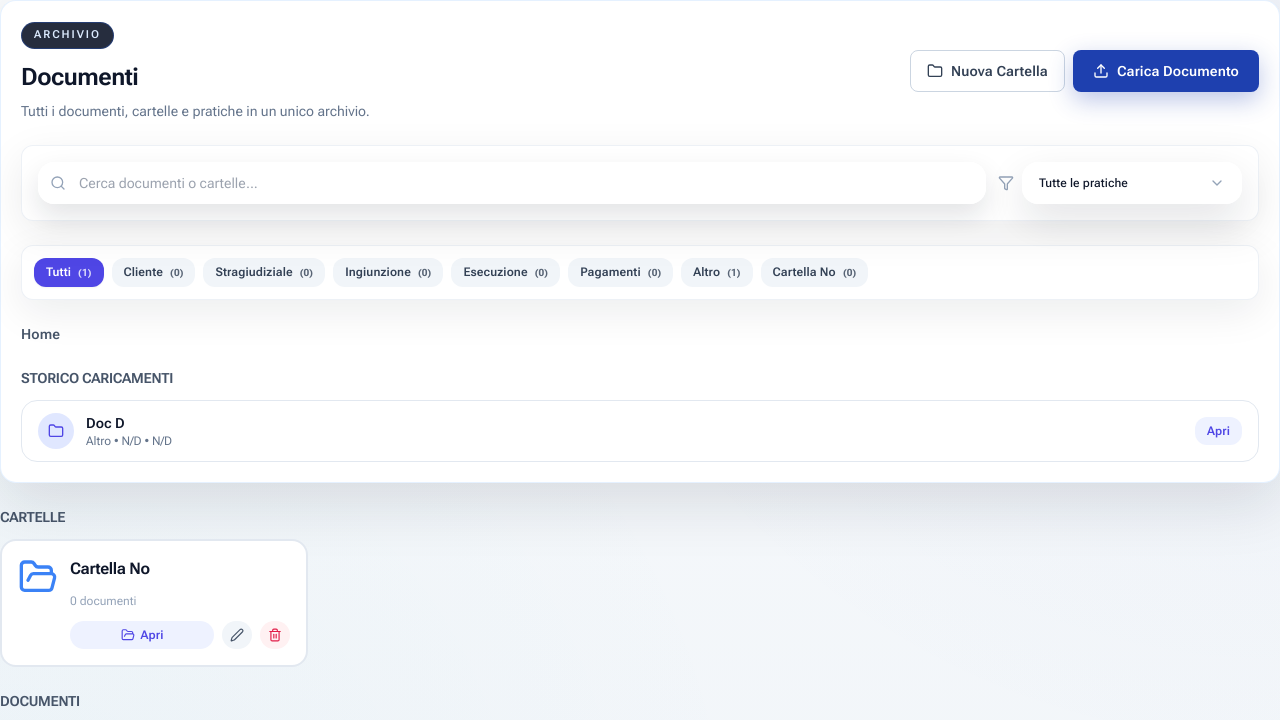
Test: DocumentiPage actions › chiude la modal cartella senza salvare
expect the 1st heading "Documenti" is shown: met, box [21,62,138,90]
Click the button "Nuova Cartella". click: (987, 71)
box: [910,50,1065,92]
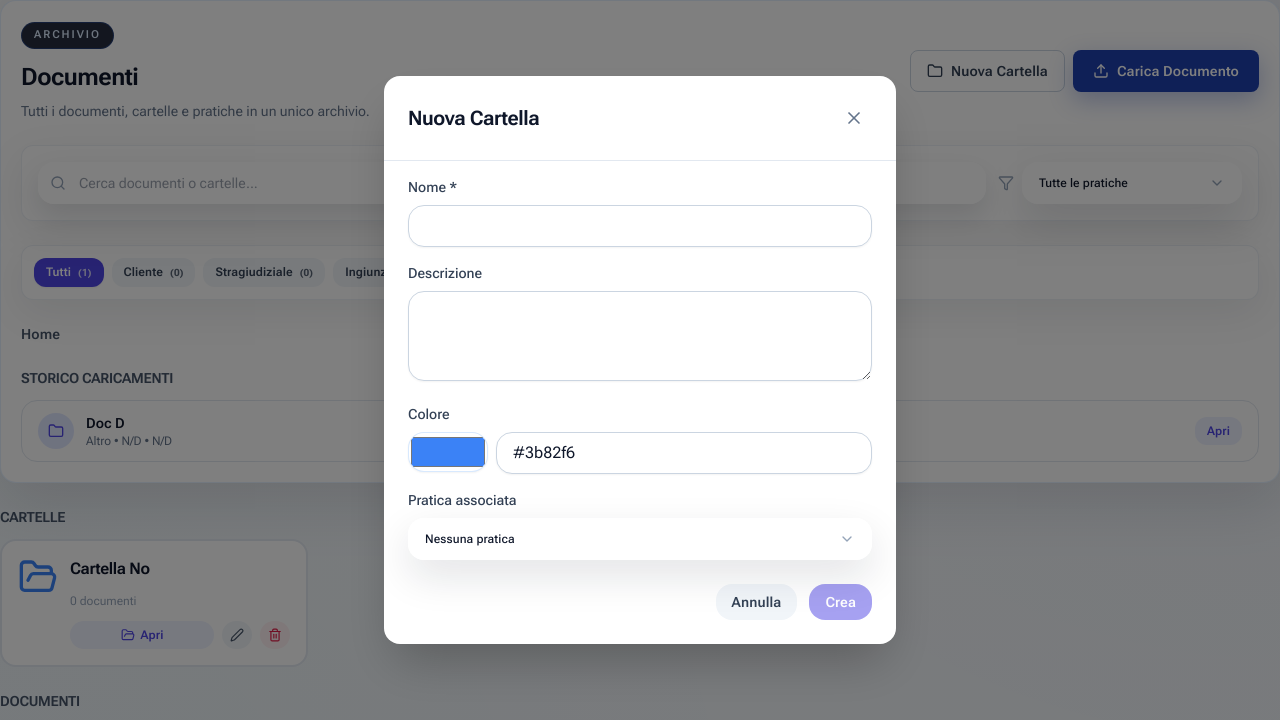
Type "Temp" into the field labelled "Nome *". click: (640, 226)
box: [408,205,872,247]
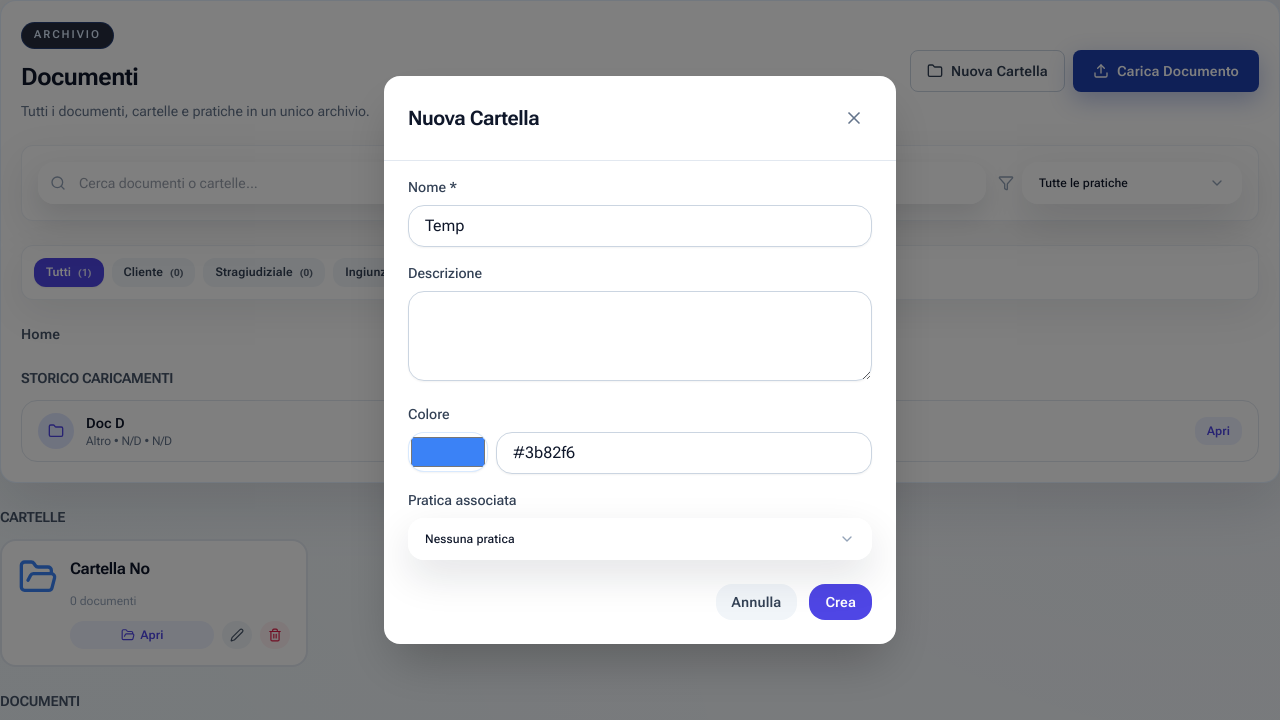
Click the button "Annulla". click: (756, 602)
box: [716,584,797,620]
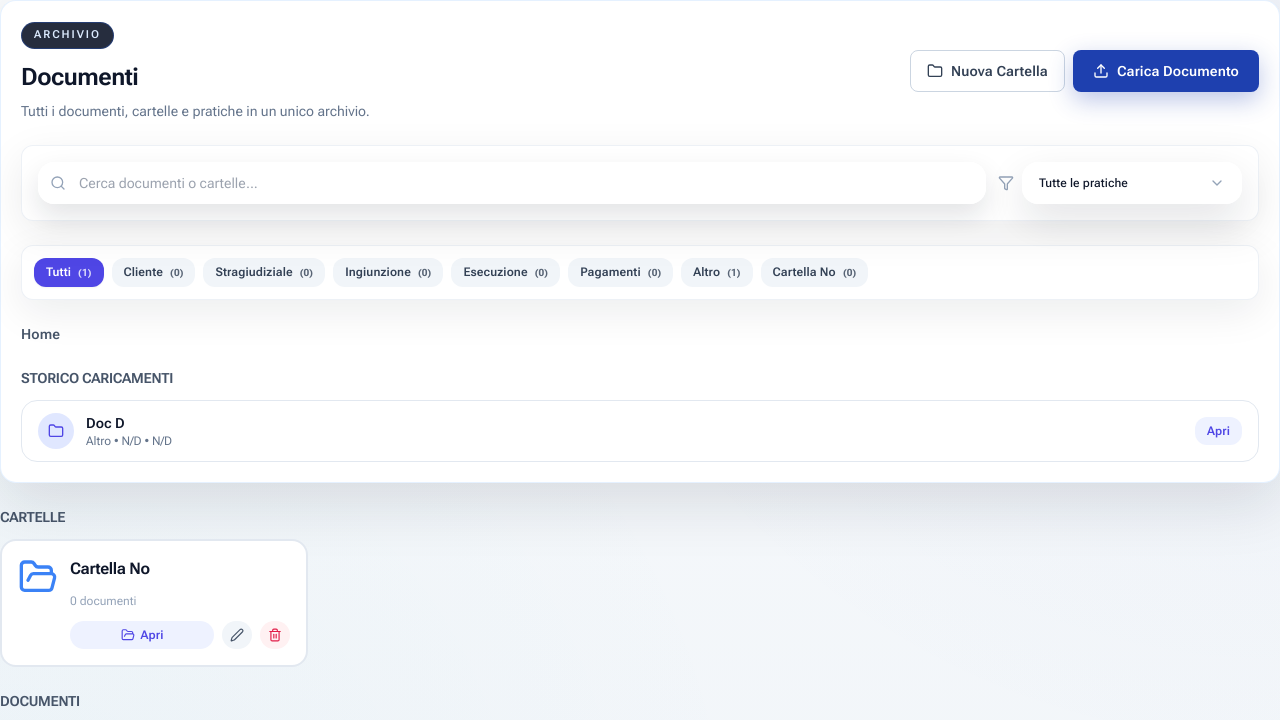
expect the button "Crea" is gone: met
